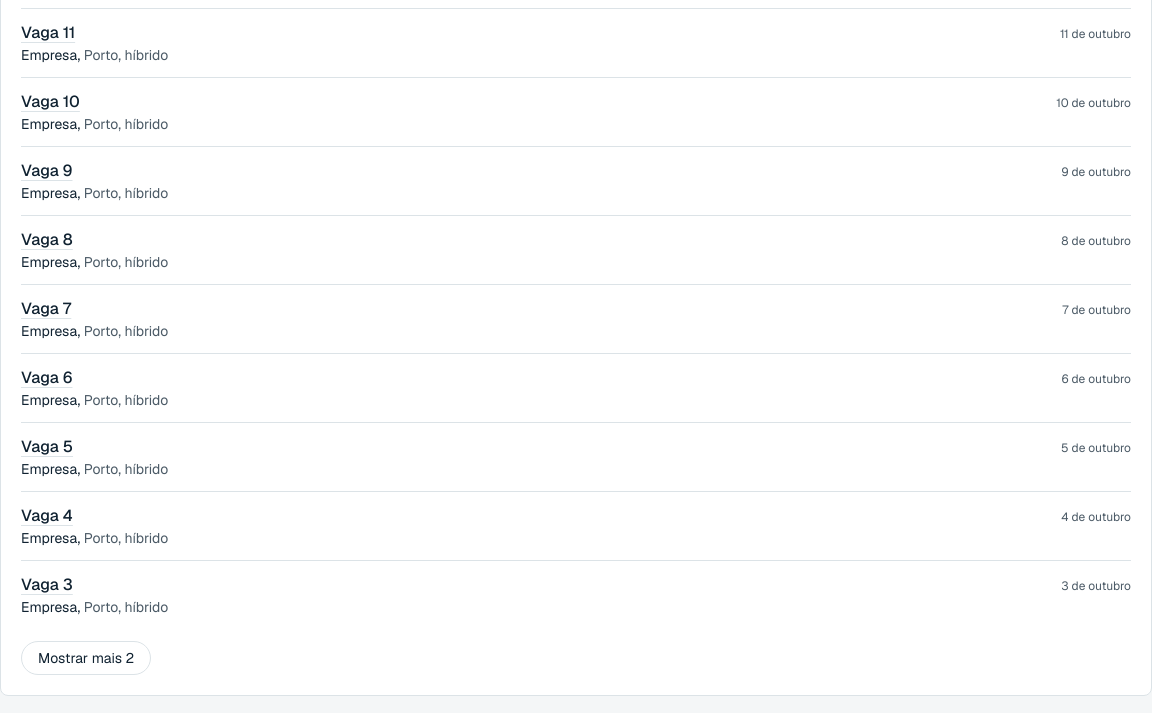
it: JobList › shows ten at a time and moves focus to the first job added
(page scrolled)
Click the button "Mostrar mais 2": (86, 658) [21,641,151,675]
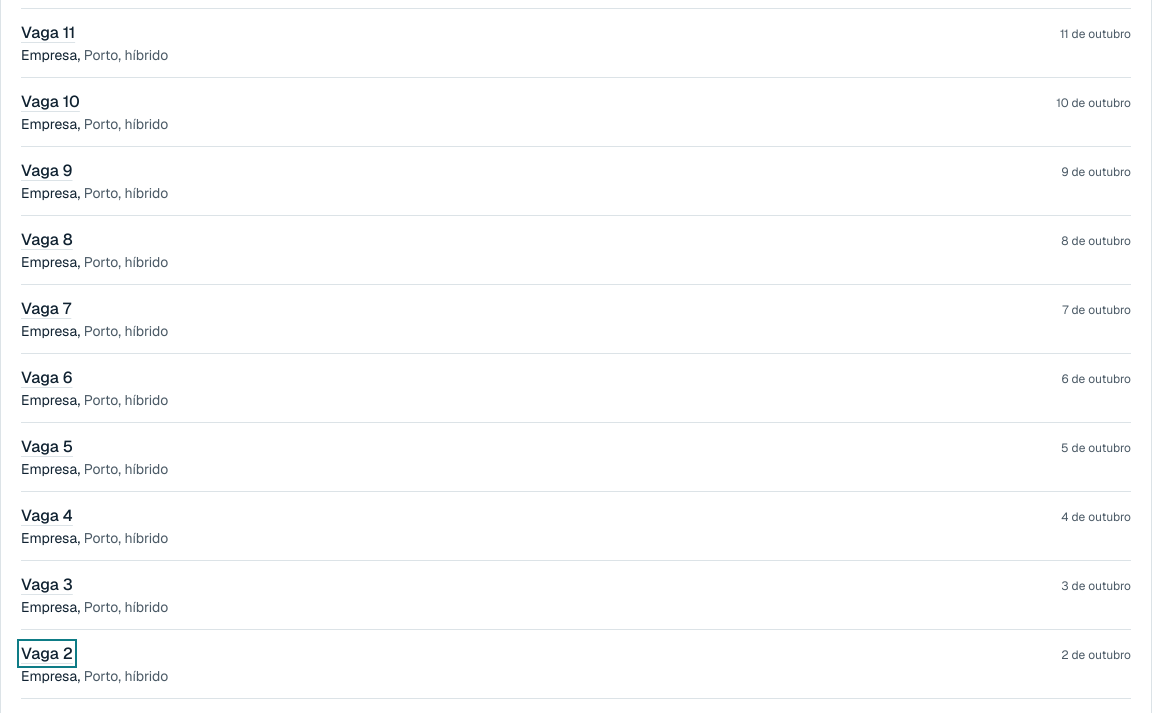
Check: the button "Mostrar mais 2" is gone
